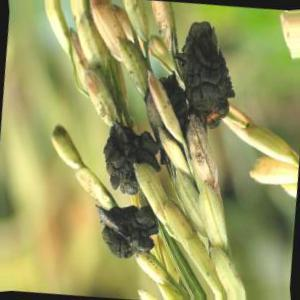Leaf_Scald: (183, 20, 227, 125), (101, 121, 155, 194), (108, 208, 149, 264)
